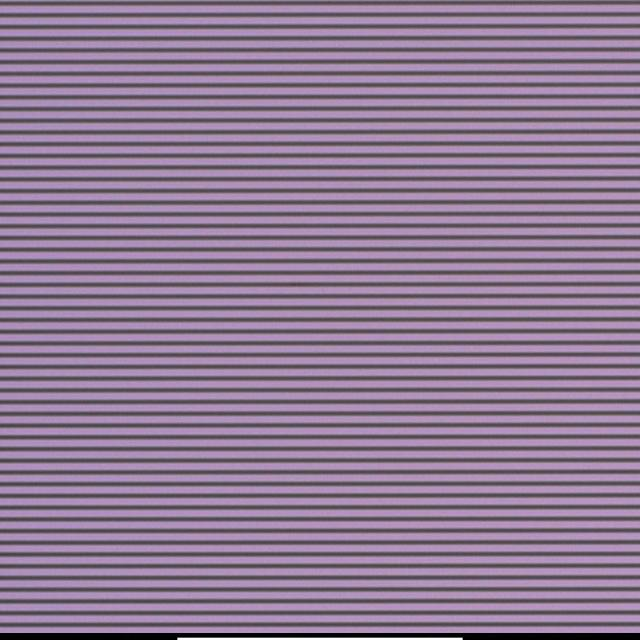03_intrusion: (294, 280, 304, 290)
